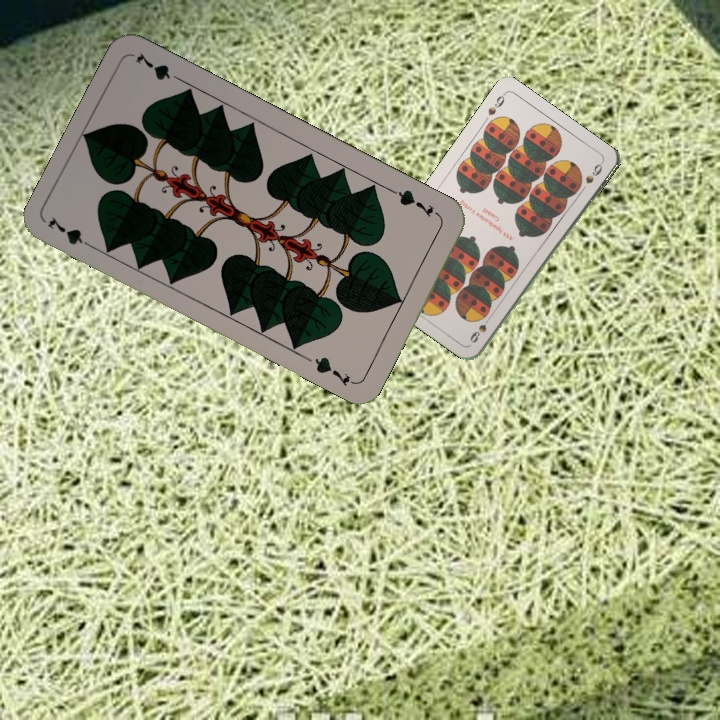G7: (43, 213, 99, 253), (388, 185, 436, 220)
S9: (466, 311, 495, 346), (483, 89, 508, 118)
